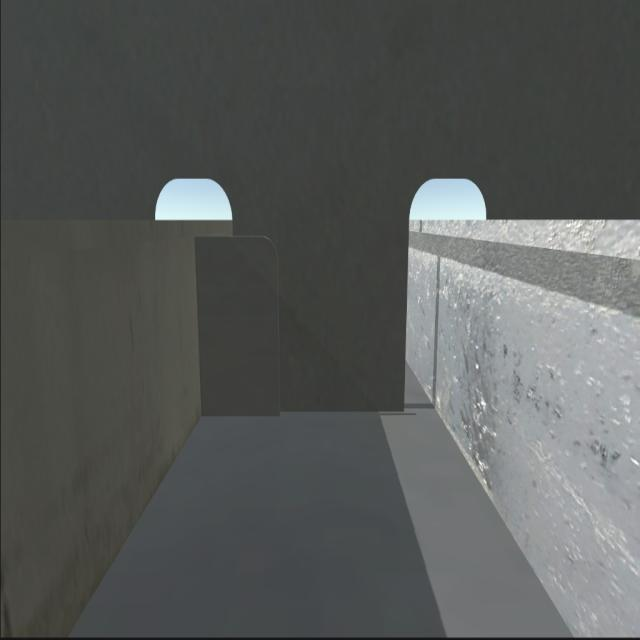fillet_yong_jeop_jang: (198, 404, 405, 426)
longi_yong_jeop_jang: (189, 238, 216, 416)
plate_CP05: (190, 228, 282, 418)
